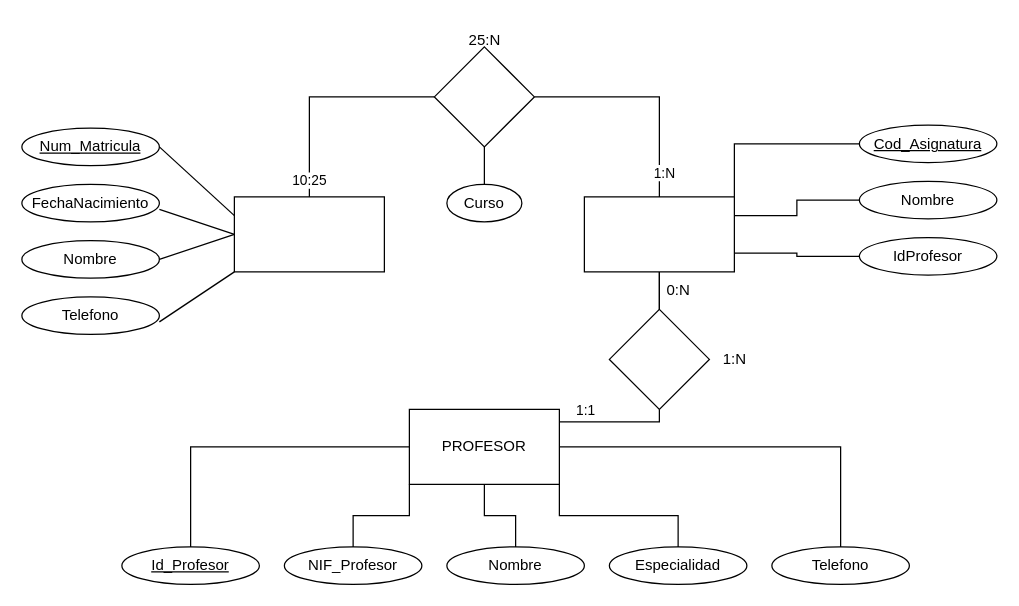
Image size: 1019x606. Some labels were removed from this diagram. Here are the shapes that lost their labels. From the top down, the centre of each, then its label:
At point 483,96: "se matricula en".
At point 308,234: "ALUMNO".
At point 658,234: "ASIGNATURA".
At point 658,358: "imparte".
